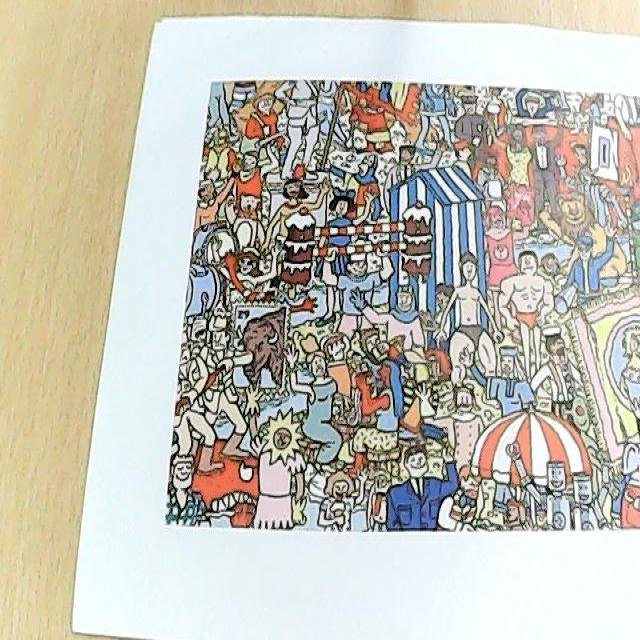waldo: (570, 138, 592, 173)
